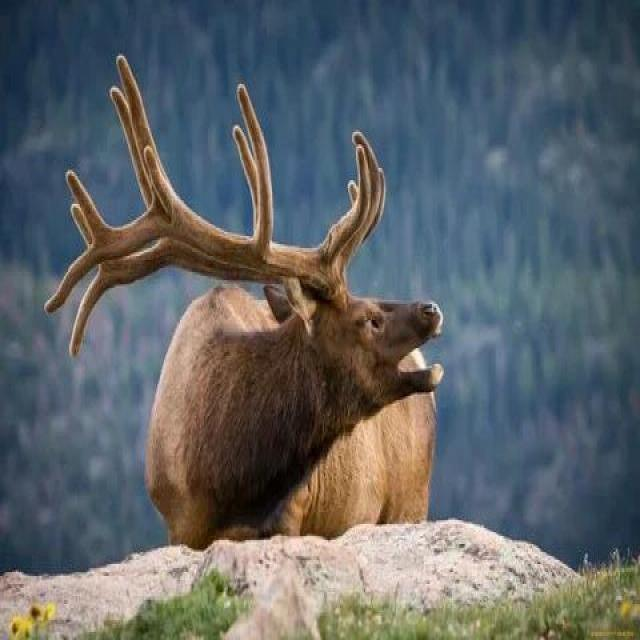deer: (68, 87, 434, 609)
